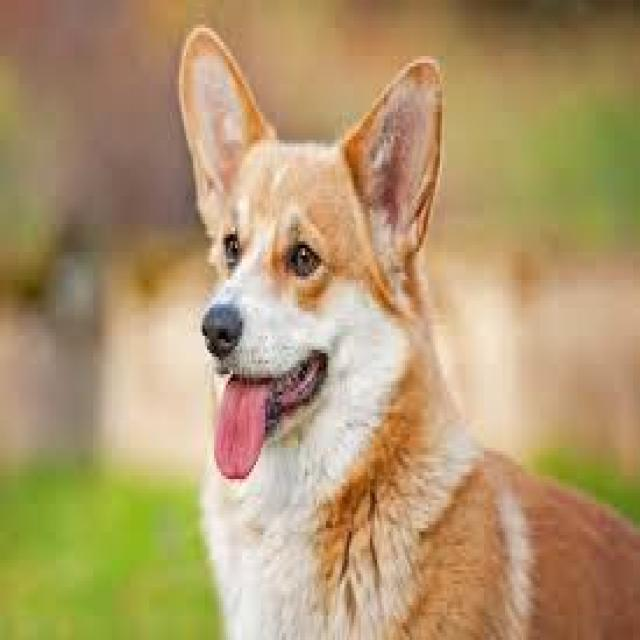CORGI: (170, 24, 640, 640)
